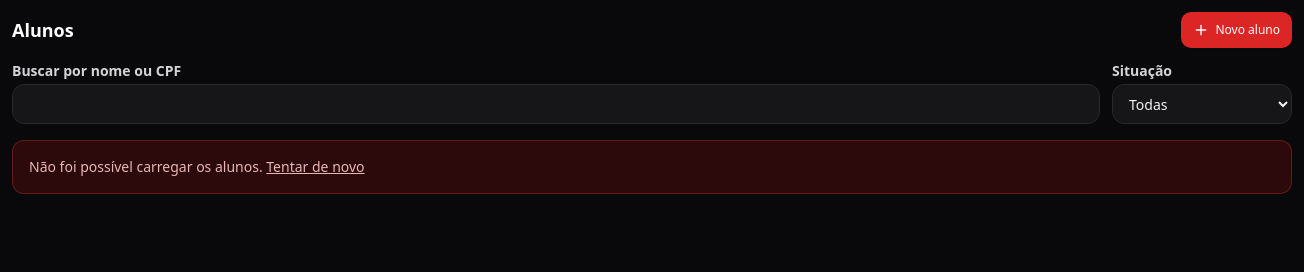
Painel: alunos › lista › falha ao carregar: aviso com nova tentativa
Click the button "Tentar de novo": click(315, 167) [266,157,365,177]
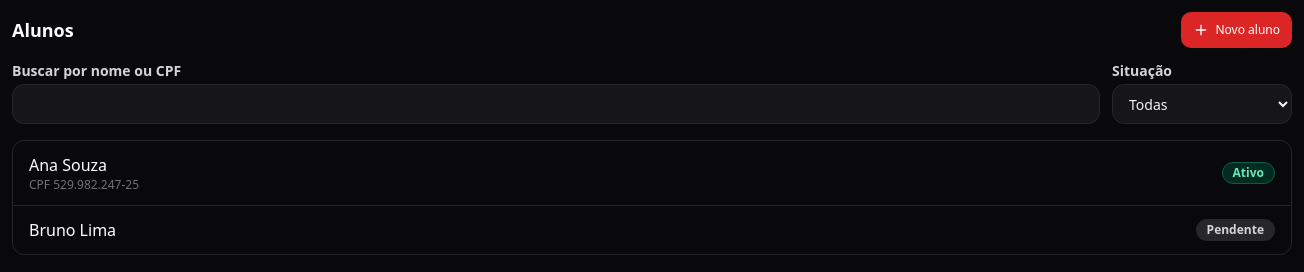
Expected: the list named "Lista de alunos" is shown, [12,140,1292,255]
